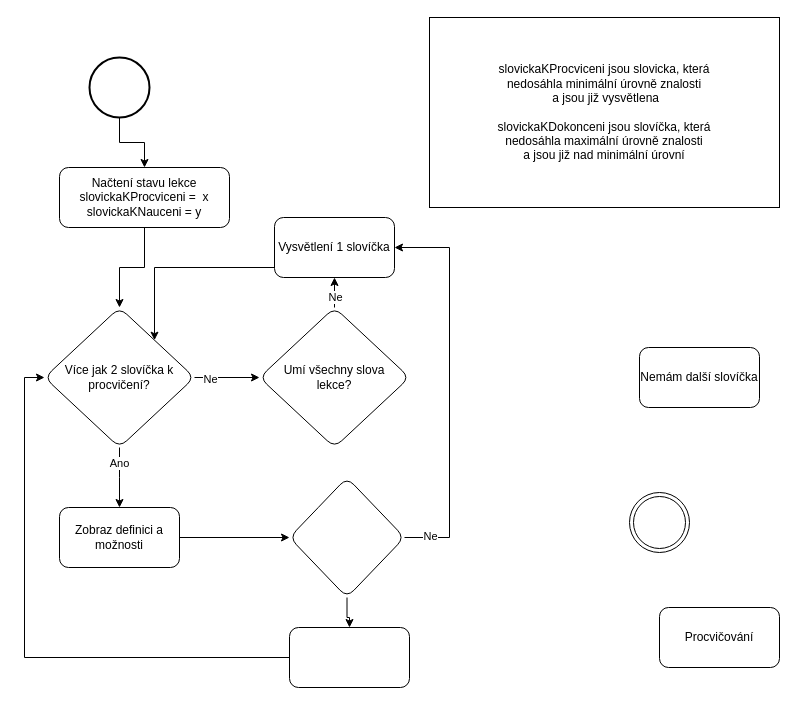
This 797x705 diagram has some shape labels left out. The centre of each missing label's shape, as x and y in pixels:
"Konec" belongs at [659,522].
"Odpověd je správná?" belongs at [346,537].
"Start" belongs at [119,87].
"Zvyš úroveň slovíčka" belongs at [349,657].
